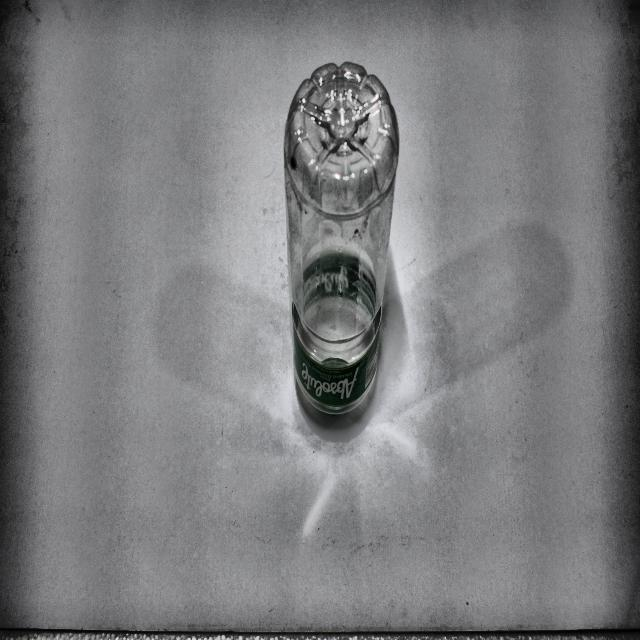Bottles: (276, 49, 409, 430)
